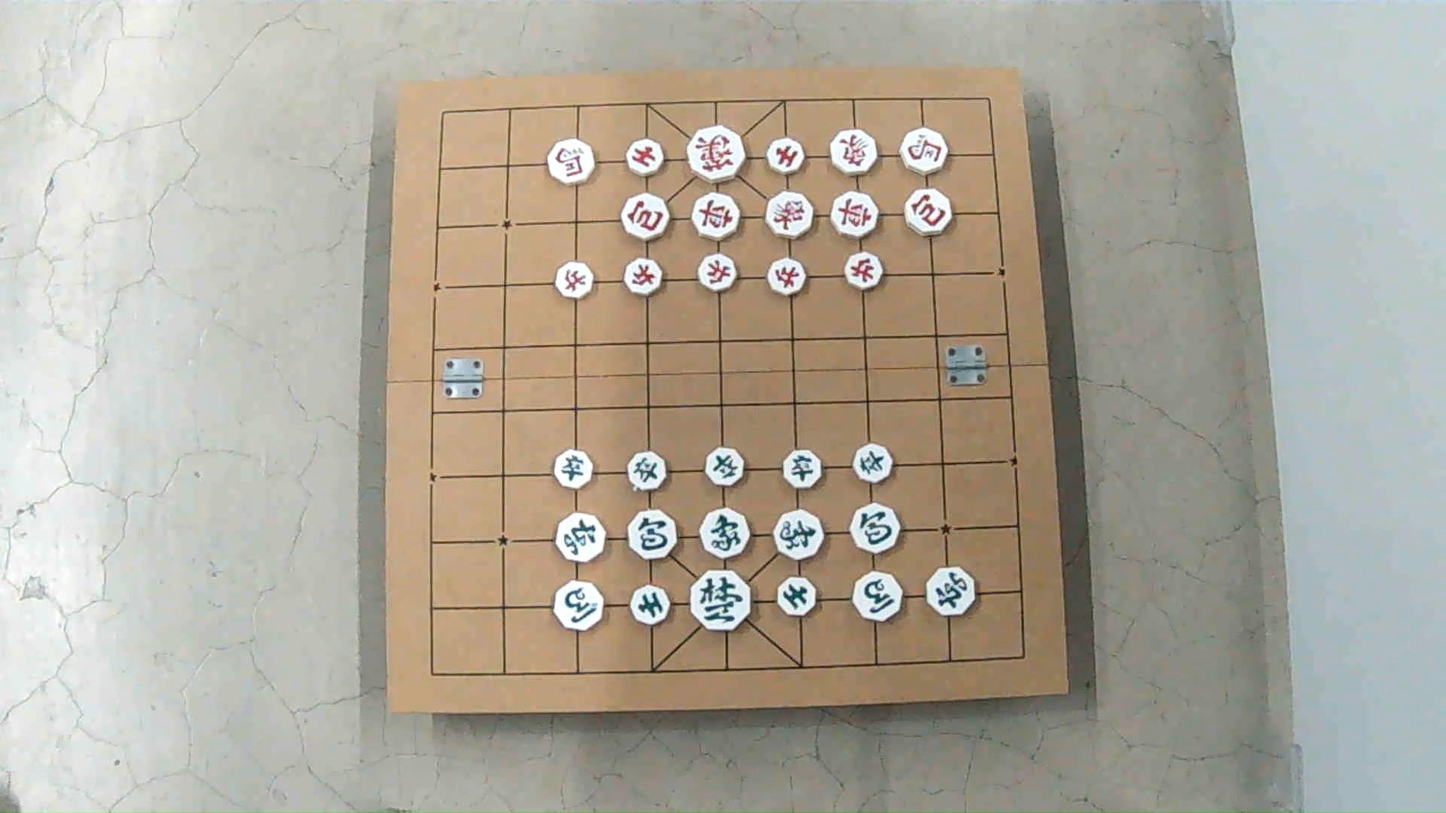cha_green: (555, 513, 605, 562), (925, 567, 975, 616)
cha_red: (692, 193, 739, 239), (831, 192, 877, 238)
jol_green: (783, 449, 822, 489), (853, 444, 892, 483), (627, 452, 666, 491), (554, 449, 591, 489), (705, 448, 743, 486)
jol_red: (844, 252, 883, 290), (697, 254, 735, 291), (624, 258, 662, 295), (768, 258, 805, 295), (555, 262, 593, 298)
ma_green: (554, 581, 603, 630), (853, 572, 901, 621)
ma_red: (900, 128, 947, 174), (547, 139, 594, 185)
po_green: (628, 510, 677, 560), (850, 504, 899, 553)
po_red: (621, 193, 667, 241), (905, 189, 951, 235)
sa_green: (631, 585, 669, 625), (777, 577, 816, 615)
sa_red: (625, 139, 664, 176), (767, 138, 804, 174)
sang_green: (700, 507, 750, 559), (773, 510, 823, 560)
sang_red: (766, 191, 813, 238), (830, 129, 877, 175)
wang_green: (691, 569, 750, 632)
wang_red: (688, 126, 743, 181)
